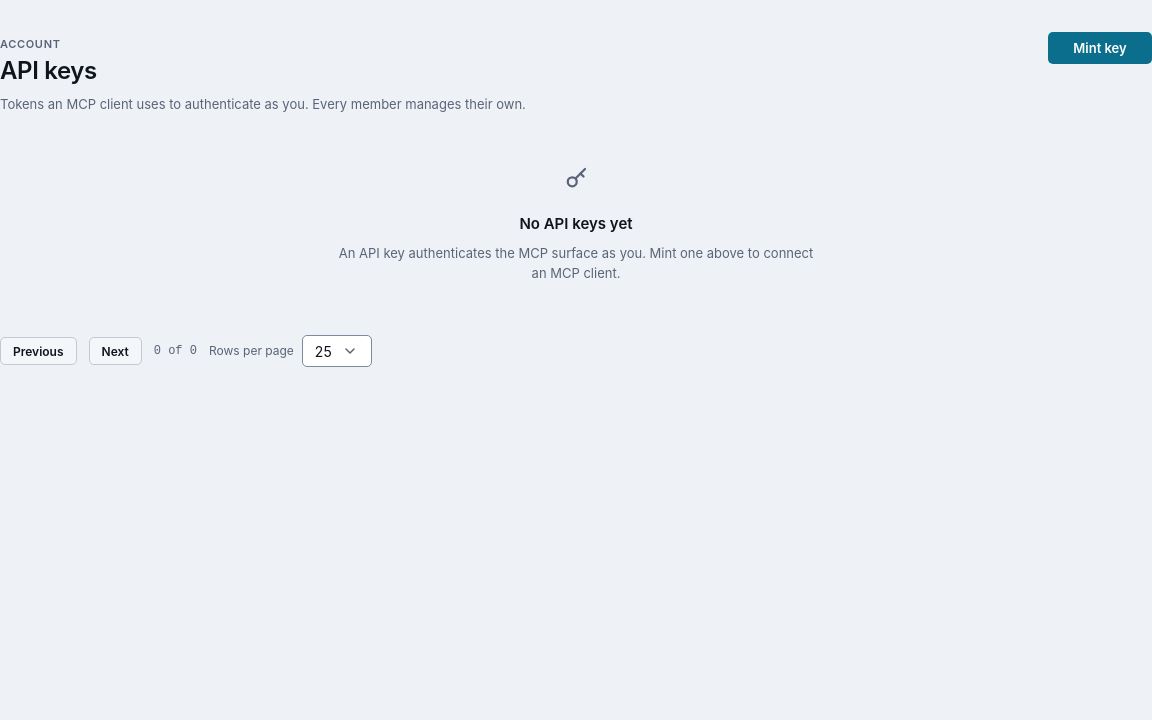
Test: ApiKeysPage › refuses an expiry beyond the 365-day bound before any request is sent
Expected: the text "No API keys yet" is shown, [519,212,633,235]
Click the button "Mint key" at (1100, 48), box [1048,32,1151,64]
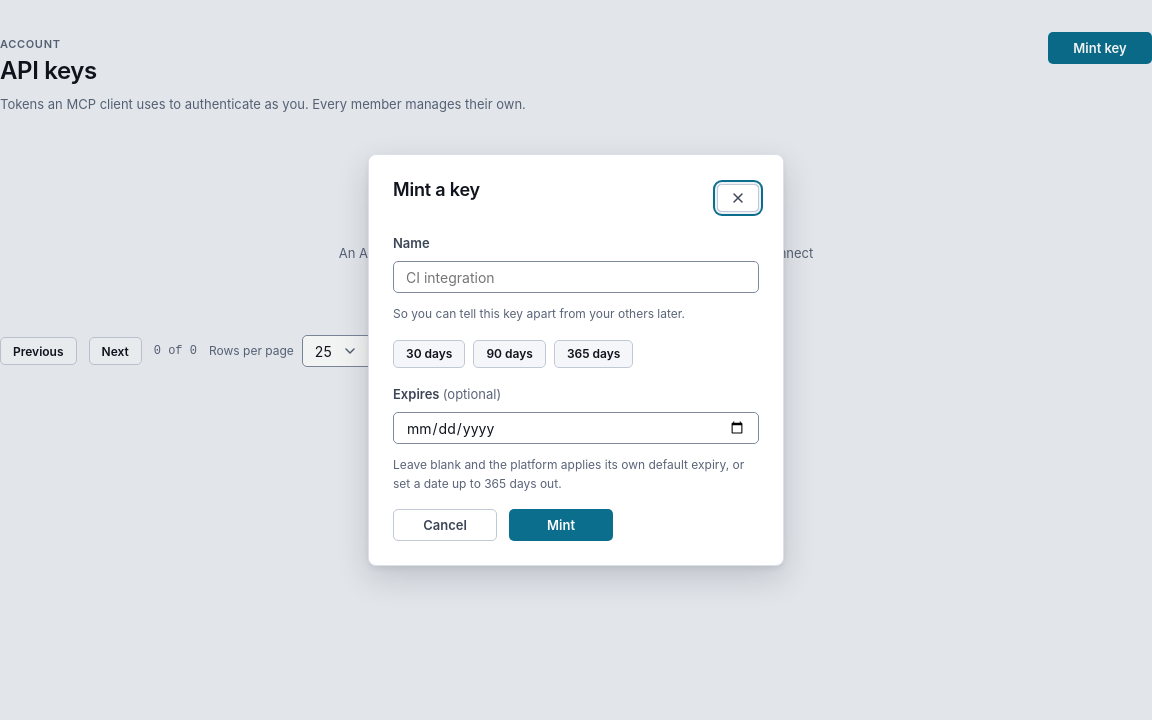
Type "Local dev" into the field labelled "Name" at (576, 277), box [393,261,759,293]
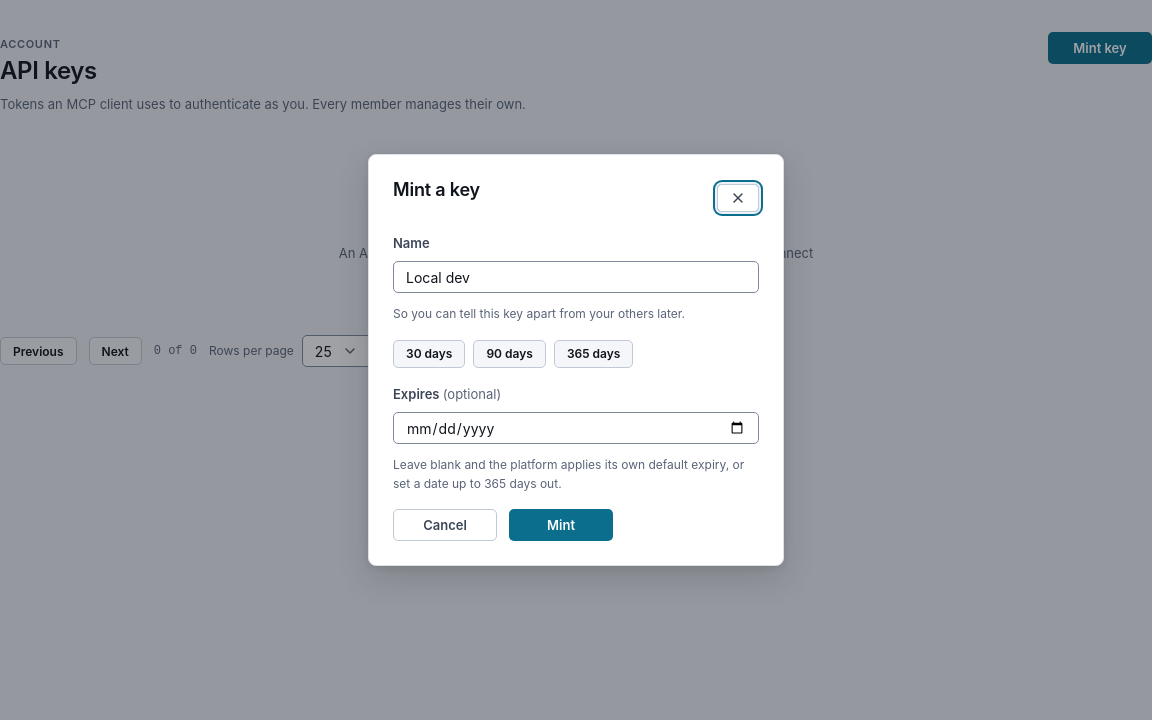
Type "2099-01-01" into the date field labelled "Expires (optional)" at (576, 428), box [393,412,759,444]
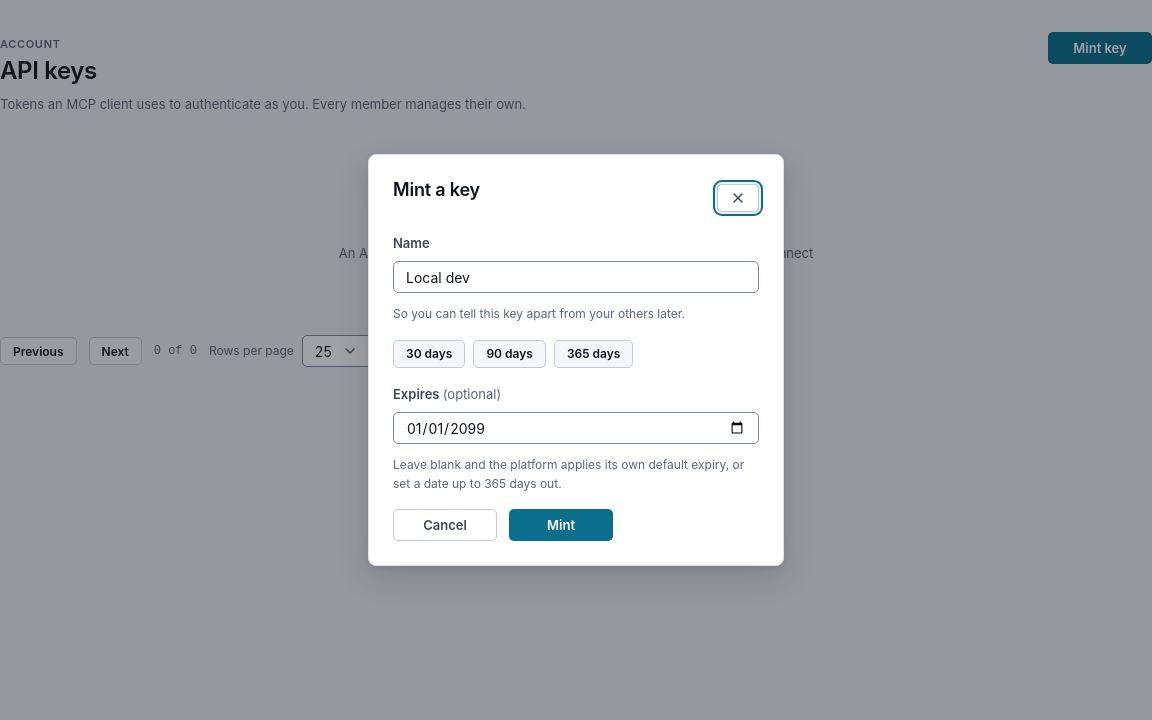
Click the button "Mint" at (561, 525), box [509,509,613,541]
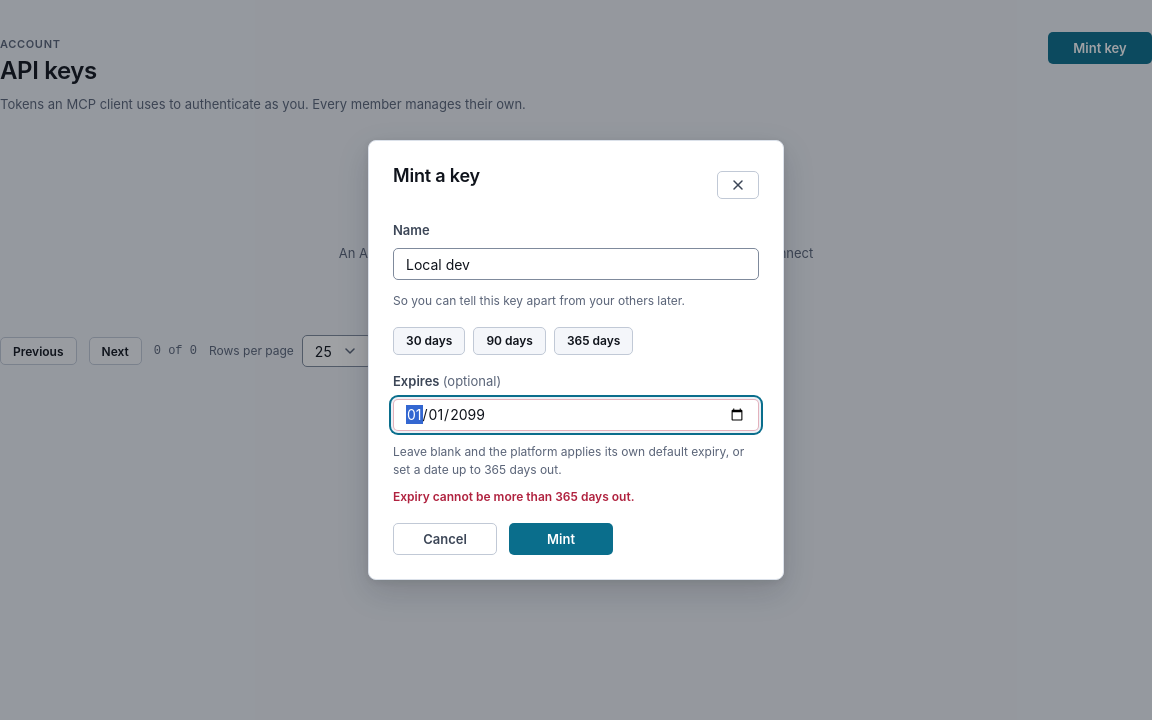
Expected: the text "Expiry cannot be more than 365 days out." is shown, [392,488,634,504]
